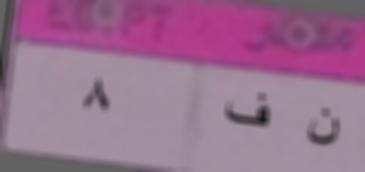8: (78, 74, 114, 125)
faa: (220, 87, 275, 134)
noon: (305, 100, 343, 153)
